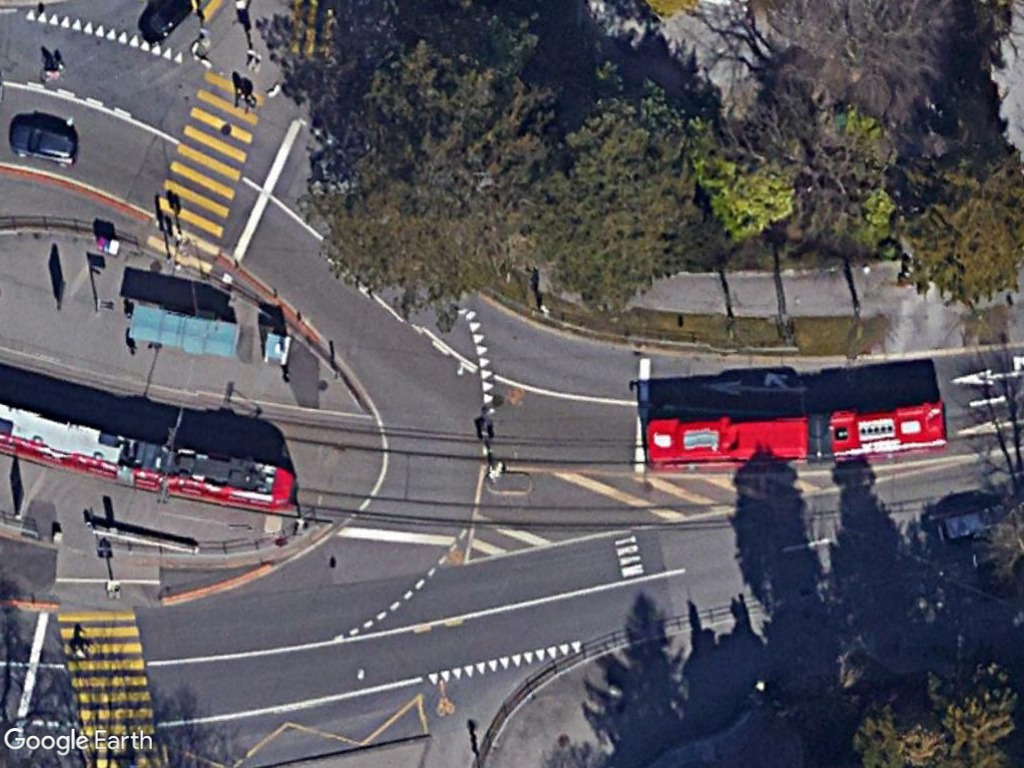bus: (638, 407, 817, 476), (826, 395, 952, 462)
car: (0, 117, 84, 173)
